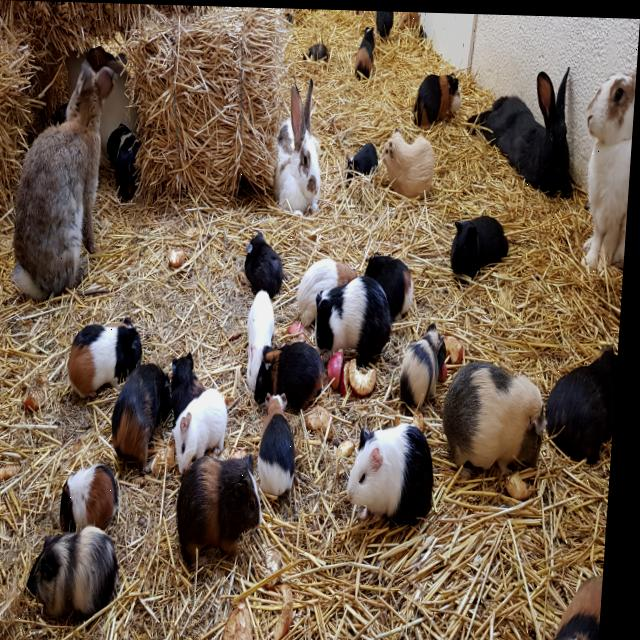guinea pig: (444, 354, 586, 476), (180, 447, 274, 569), (32, 521, 133, 631), (347, 420, 444, 525), (548, 334, 623, 462), (316, 269, 398, 363), (116, 359, 186, 468), (69, 314, 149, 400), (542, 555, 612, 640), (62, 458, 139, 535), (177, 383, 238, 478), (258, 335, 335, 405), (262, 388, 307, 496), (299, 251, 361, 328), (403, 317, 454, 408), (452, 206, 515, 277), (247, 278, 284, 394), (382, 128, 439, 200), (366, 244, 420, 316), (104, 117, 147, 207), (413, 66, 465, 128), (247, 227, 290, 298), (173, 348, 209, 416), (346, 137, 382, 189), (355, 20, 377, 79), (301, 32, 333, 66), (371, 9, 395, 38), (397, 10, 421, 29), (0, 568, 0, 640)
